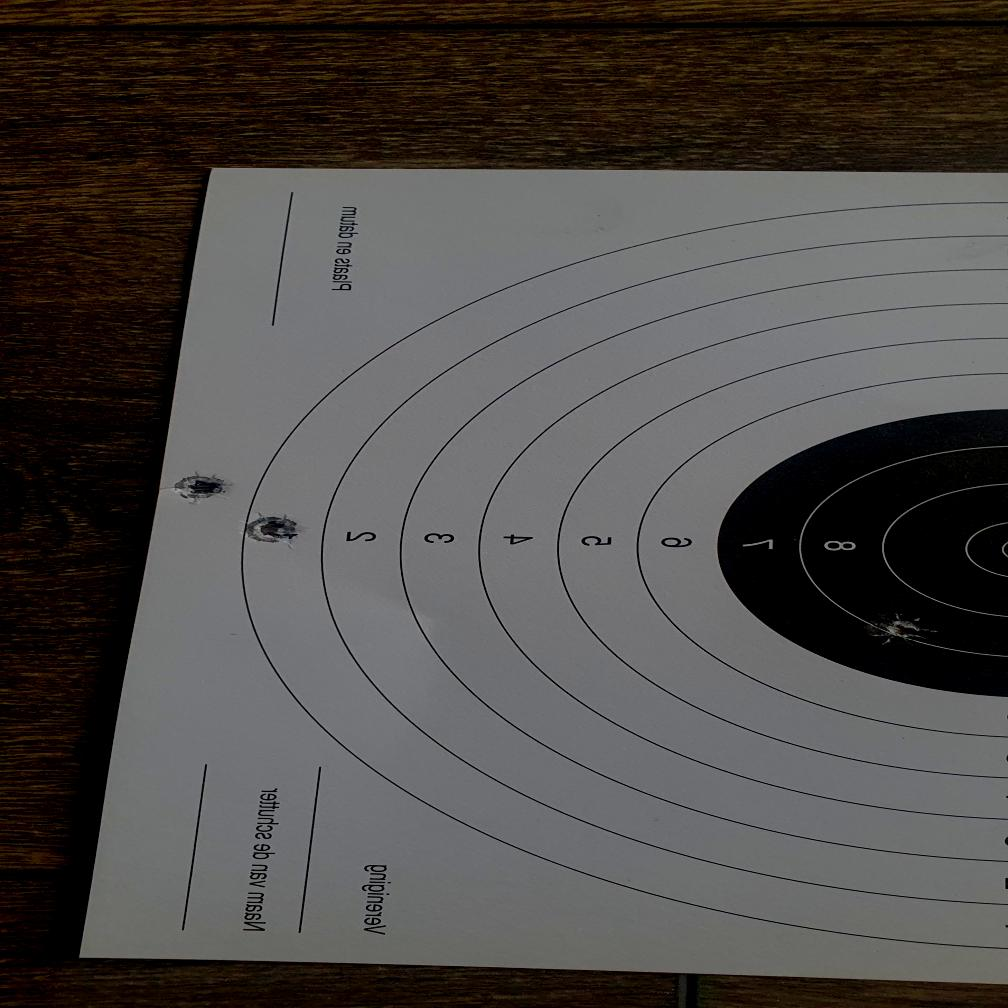0: (163, 473, 236, 503)
1: (239, 512, 302, 548)
8: (863, 609, 938, 647)
Target: (237, 194, 1008, 955)
black_contour: (712, 405, 1008, 701)
